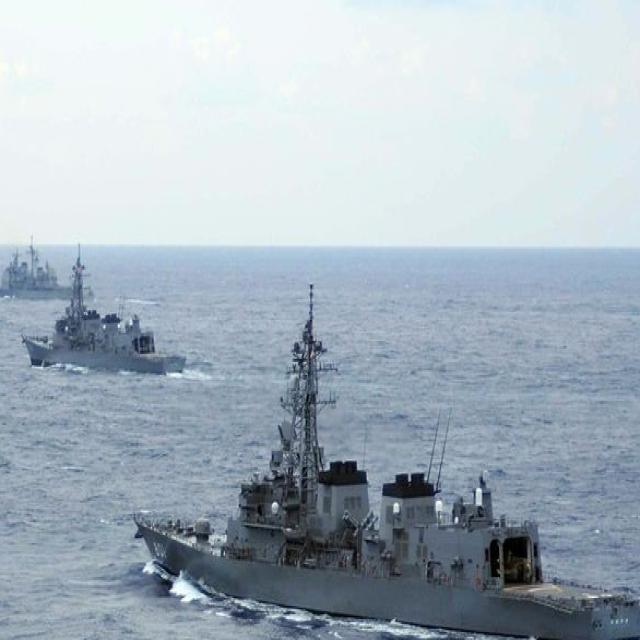navalvessels: (135, 292, 640, 640), (30, 270, 184, 374), (0, 234, 79, 299)
